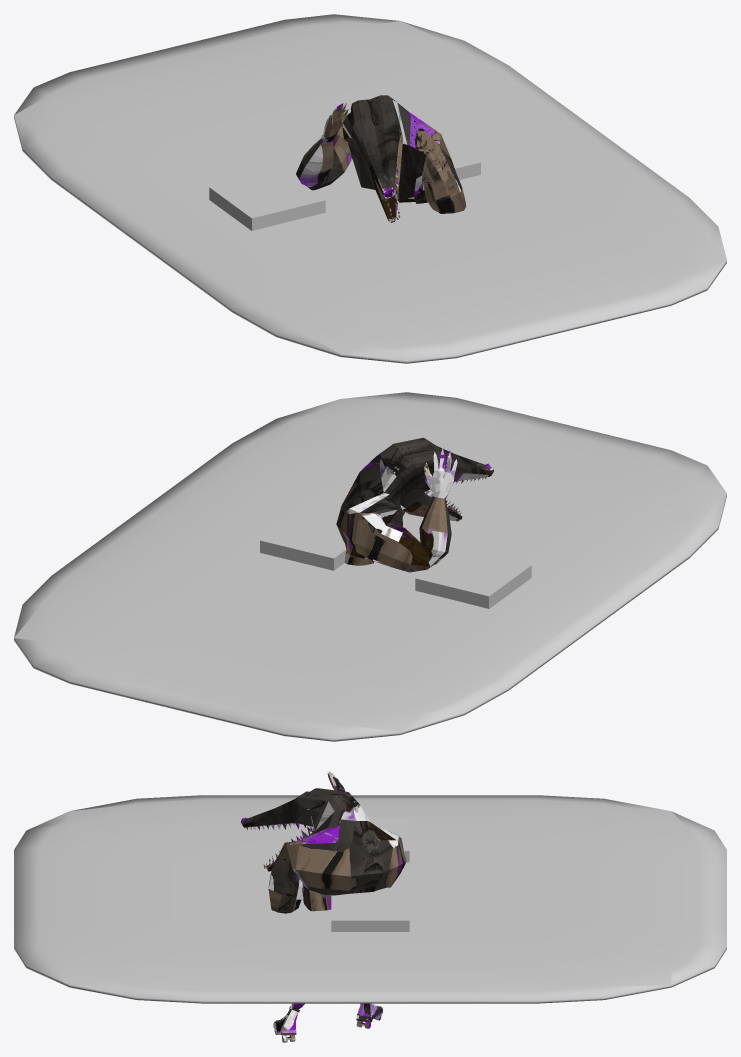
Rendered from cocodrilaBonesSelect_000008.obj.
The picture shows the model from 3 angles, top to bottom: view 1: azimuth 30°, elevation 25°; view 2: azimuth 150°, elevation 25°; view 3: azimuth 270°, elevation 25°; orthographic projection. The views are drawn at different scales.
Parts seen in each view (by area): view 1: Mball, Crocodile.002_Cylinder.002, Cube, Cube.001; view 2: Mball, Crocodile.002_Cylinder.002, Cube, Cube.001; view 3: Mball, Crocodile.002_Cylinder.002, Cube.001, Cube.
Boxes of the visible parts, left/top/right/bottom form: Mball: left=14, top=14, right=726, bottom=363; Crocodile.002_Cylinder.002: left=296, top=95, right=466, bottom=222; Cube: left=209, top=169, right=325, bottom=230; Cube.001: left=438, top=131, right=480, bottom=179; Mball: left=14, top=392, right=726, bottom=741; Crocodile.002_Cylinder.002: left=336, top=437, right=493, bottom=572; Cube: left=415, top=547, right=531, bottom=608; Cube.001: left=260, top=509, right=346, bottom=570; Mball: left=14, top=795, right=726, bottom=1003; Crocodile.002_Cylinder.002: left=240, top=770, right=406, bottom=1042; Cube.001: left=331, top=887, right=409, bottom=931; Cube: left=368, top=817, right=409, bottom=862.
Bounding box in the file's own units: 12.42 × 6.32 × 18.18.
